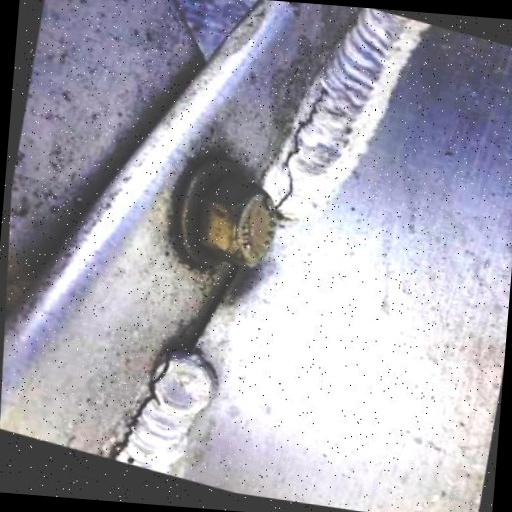crack: (262, 61, 346, 227), (109, 331, 182, 473)
